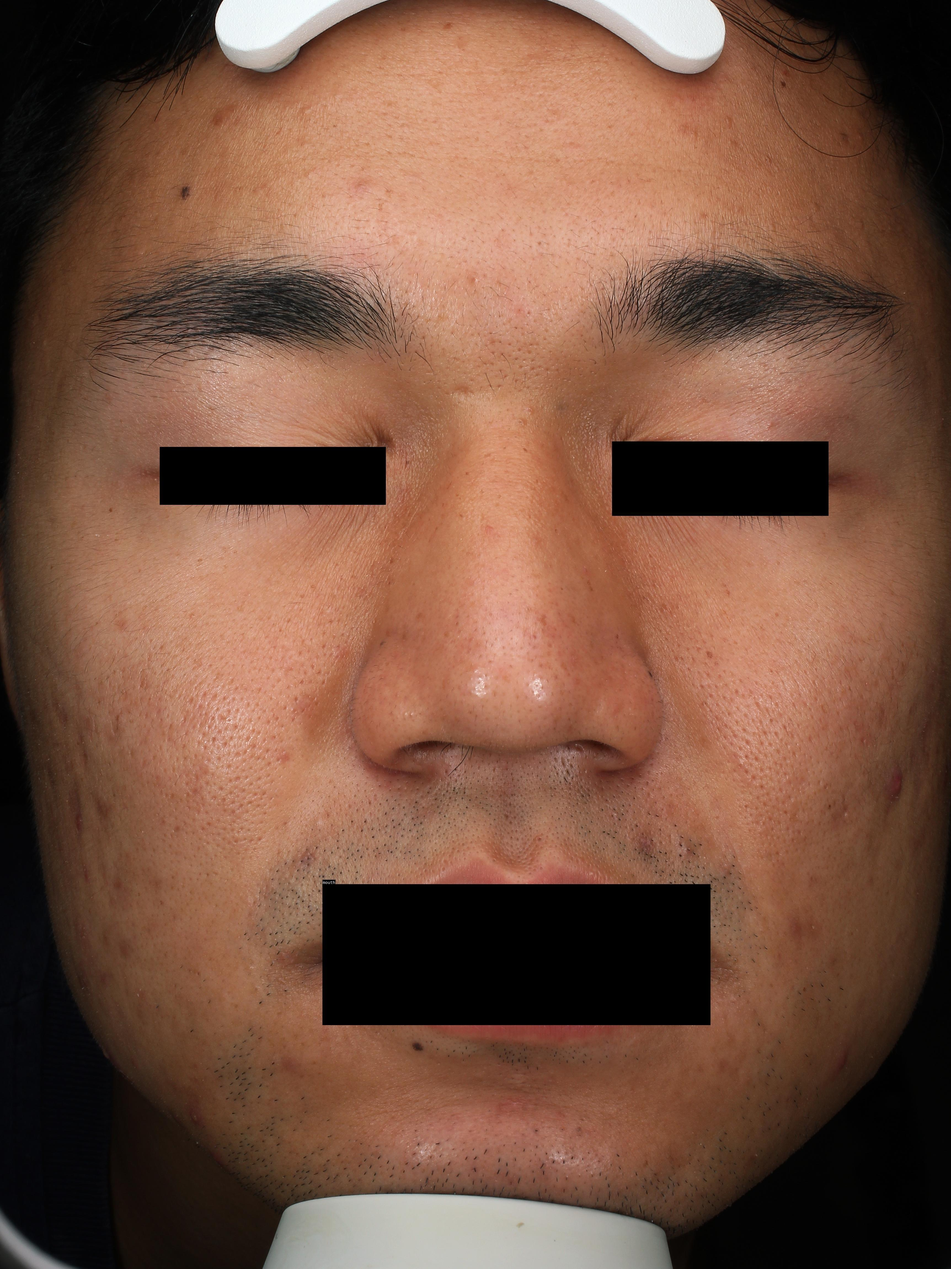atrophic_scar: (67, 779, 84, 835), (911, 773, 928, 820), (50, 684, 67, 726), (880, 806, 902, 833), (921, 715, 932, 762), (501, 1098, 530, 1115), (509, 1068, 531, 1089), (91, 795, 108, 821), (792, 775, 811, 795), (451, 383, 475, 398), (297, 850, 319, 866), (46, 764, 57, 794), (876, 709, 888, 732), (138, 669, 149, 692), (792, 809, 809, 823), (109, 714, 119, 735), (215, 713, 228, 727), (741, 688, 755, 701), (80, 749, 89, 769), (819, 703, 831, 716), (841, 800, 849, 819), (207, 693, 218, 706), (218, 736, 229, 749), (181, 710, 189, 727), (75, 731, 84, 745), (199, 765, 210, 776), (859, 736, 869, 747), (171, 824, 182, 834), (189, 786, 200, 796), (450, 355, 461, 364), (127, 747, 135, 759), (704, 650, 714, 659), (191, 771, 199, 782), (808, 733, 814, 747), (187, 695, 195, 705), (502, 811, 510, 821), (233, 751, 242, 759), (210, 737, 217, 746), (200, 691, 207, 700), (755, 700, 761, 710), (576, 746, 581, 754), (197, 972, 199, 975)
closed_comedo: (682, 842, 694, 855), (356, 179, 367, 190), (811, 203, 821, 213), (300, 141, 311, 150), (524, 407, 535, 416), (808, 923, 818, 932), (807, 875, 816, 884), (515, 418, 525, 426), (304, 170, 313, 178), (857, 220, 864, 230), (302, 106, 310, 114), (315, 819, 322, 827), (726, 117, 733, 124), (858, 135, 864, 142), (727, 139, 734, 145), (768, 224, 775, 230), (774, 164, 779, 172), (409, 712, 414, 718), (403, 711, 407, 718), (768, 423, 773, 426)
hypertrophic_scar: (210, 102, 243, 125), (472, 1070, 488, 1080)
melasma: (535, 613, 547, 626), (721, 581, 731, 596), (586, 580, 595, 593), (415, 611, 428, 619), (216, 545, 228, 553), (388, 556, 397, 565), (484, 452, 492, 459), (775, 559, 781, 566), (465, 470, 471, 476), (196, 558, 203, 563), (458, 512, 463, 518), (522, 447, 528, 452), (535, 478, 540, 484), (560, 586, 564, 591)
nevus: (180, 185, 192, 200), (413, 1043, 424, 1052), (781, 79, 788, 88), (647, 671, 654, 680), (379, 639, 383, 647), (108, 507, 113, 513)
open_comedo: (470, 276, 479, 284), (225, 716, 233, 724), (535, 836, 542, 843), (758, 710, 763, 716), (387, 580, 391, 586), (690, 132, 693, 135), (514, 436, 517, 438)
papule: (888, 764, 904, 799), (834, 1053, 848, 1073), (211, 1152, 221, 1163), (280, 751, 288, 759)
pustule: (190, 1110, 199, 1124)
